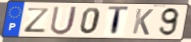0: (78, 6, 102, 36)
9: (157, 7, 181, 38)
K: (131, 8, 155, 36)
T: (107, 5, 131, 38)
U: (49, 5, 79, 36)
Z: (24, 7, 52, 34)
